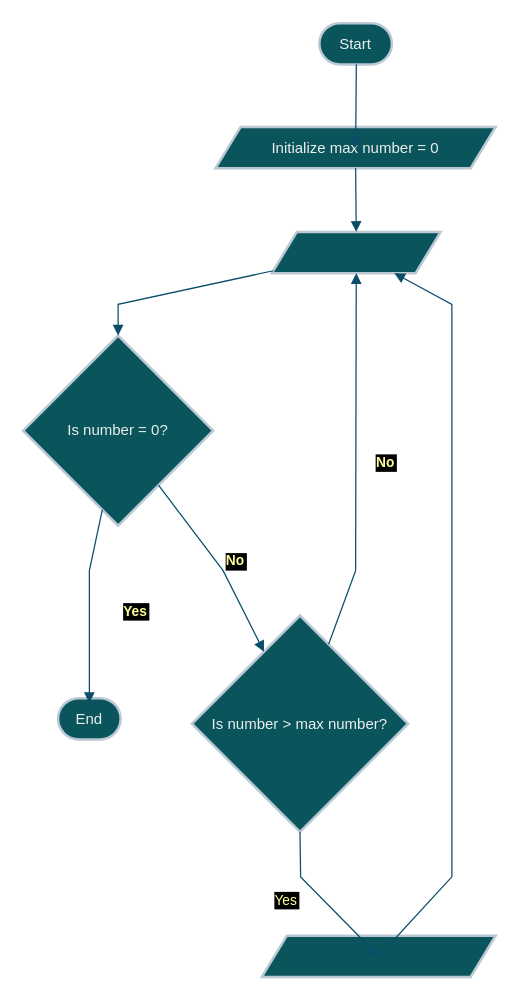
This 518x999 diagram has some shape labels left out. Here are the shapes that lost their labels. From the top down, the box of each, then its label:
(270, 230, 441, 274): Input number
(260, 934, 496, 978): Update max number
